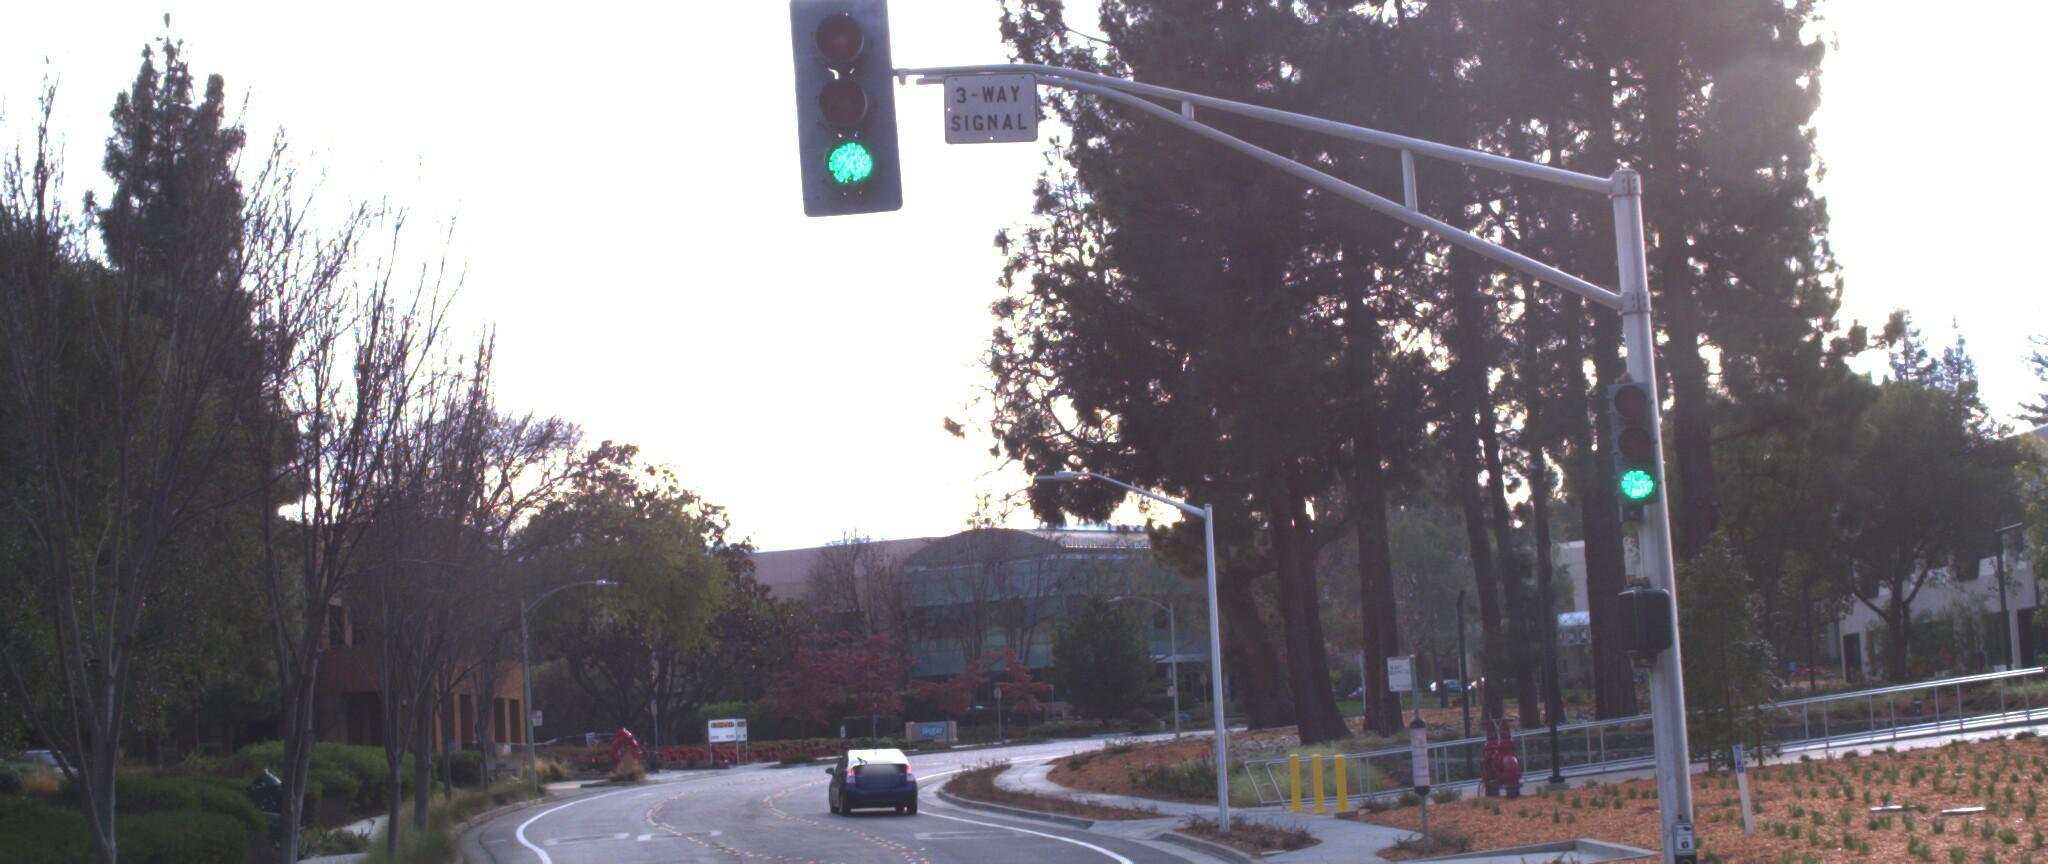car: (832, 737, 936, 822)
